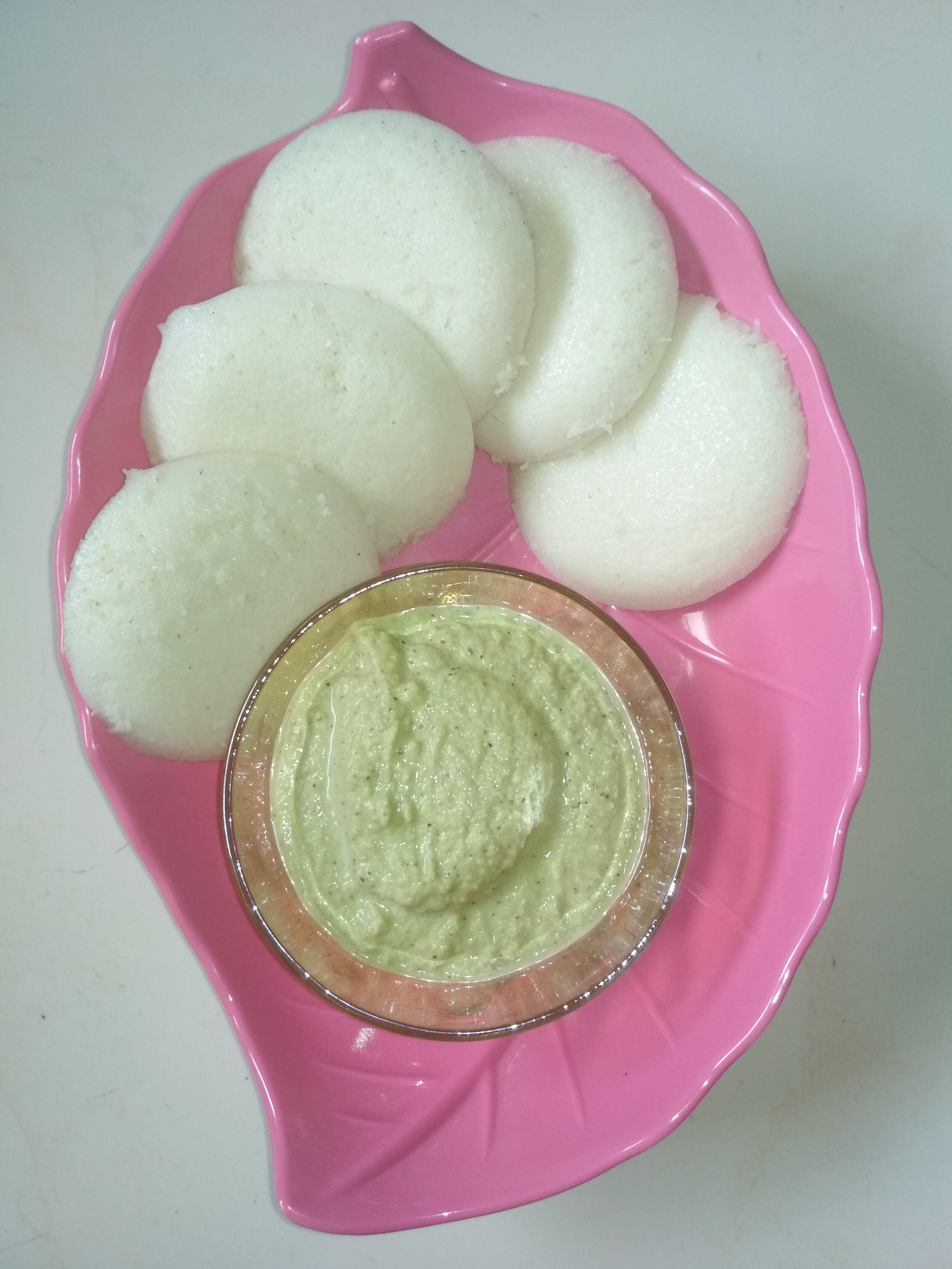Idli: (47, 453, 380, 765), (245, 111, 536, 410), (148, 291, 475, 551), (526, 313, 805, 601), (459, 148, 677, 451)
